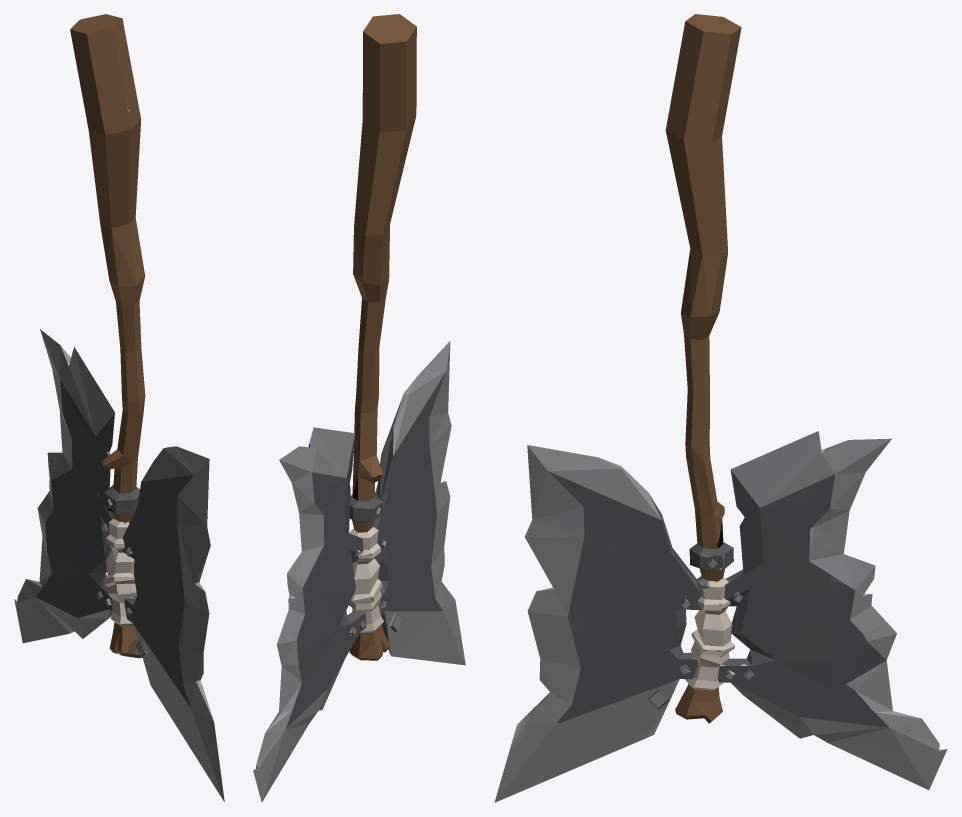
File: swingaxe.fbx
3 renders of one model, left to right at view 1: azimuth 30°, elevation 25°; view 2: azimuth 150°, elevation 25°; view 3: azimuth 270°, elevation 25°, orthographic. The views are drawn at different scales.
Parts seen in each view (by area): view 1: SM_Wep_BarbarianGiant_01; view 2: SM_Wep_BarbarianGiant_01; view 3: SM_Wep_BarbarianGiant_01.
Part boxes in pixels (x1,y1,x2,y2): SM_Wep_BarbarianGiant_01: [14, 14, 224, 801]; SM_Wep_BarbarianGiant_01: [253, 14, 465, 802]; SM_Wep_BarbarianGiant_01: [494, 14, 947, 802].
Size of the model in its own units: 51.1 by 530 by 283.
1 material, 1 textured.
